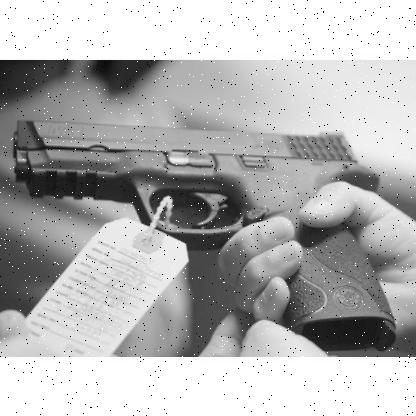gun: (11, 118, 395, 350)
